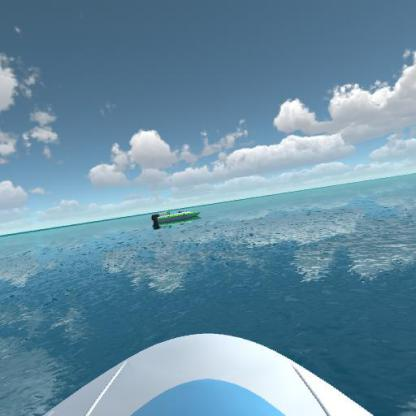usv0: (148, 203, 203, 229)
